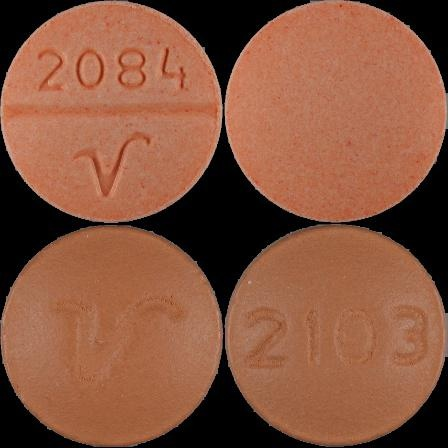0603-2116: (0, 0, 224, 224)
